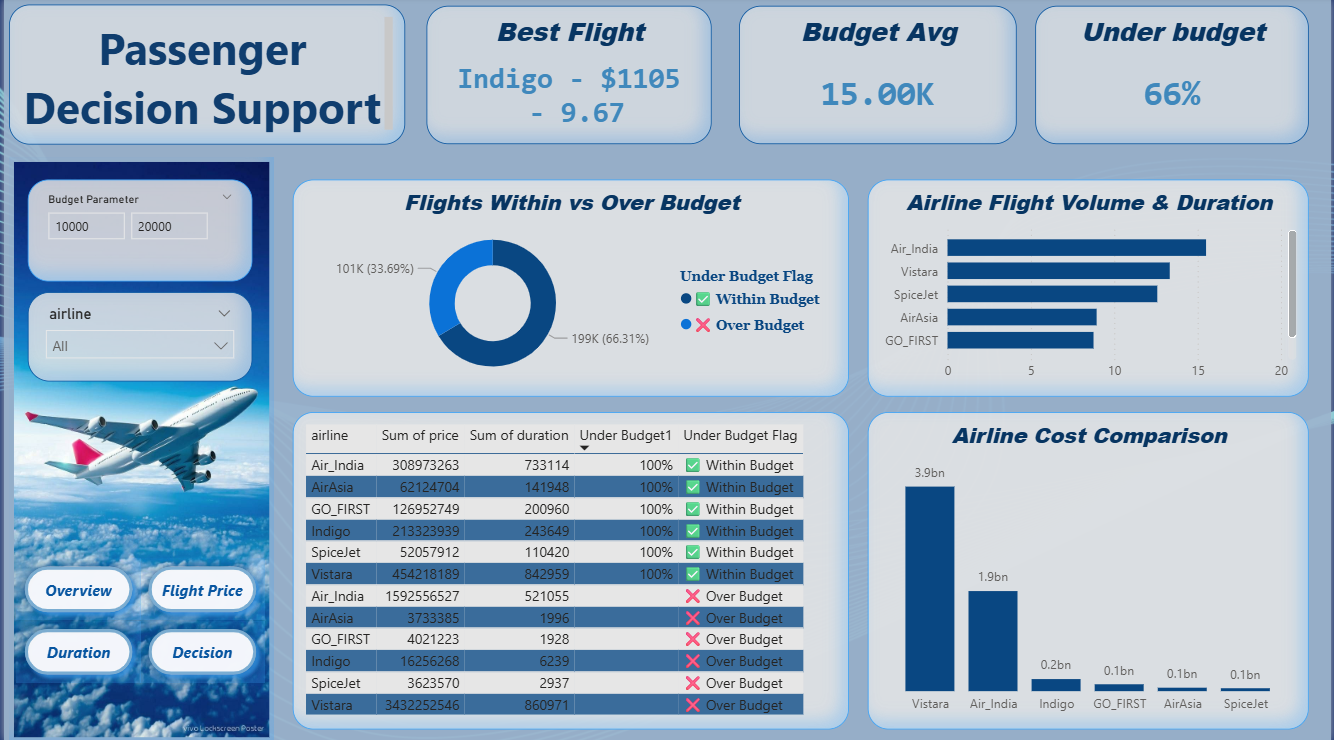

Layout of this report page (visuals, bound fields, positions):
{"tool":"powerbi","page":{"name":"Passenger Decision Support","canvas":[1280,720],"ordinal":3},"visuals":[{"type":"tableEx","fields":{"Values":["airlines_flights_data.airline","Sum(airlines_flights_data.price)","Sum(airlines_flights_data.duration)","Budget Parameter.% Under Budget1","airlines_flights_data.Under Budget Flag"]},"box":[278.7,400.5,536.9,306.4],"z":0},{"type":"card","title":"Budget Avg","fields":{"Values":["Avg(Budget Parameter.Budget Parameter)"]},"box":[709.4,8.4,267.8,133.9],"z":1000},{"type":"card","title":"Under budget","fields":{"Values":["Budget Parameter.% Under Budget1"]},"box":[995.3,8.4,264.2,133.9],"z":2000},{"type":"card","title":"Best Flight","fields":{"Values":["Budget Parameter.Best Flight 3"]},"box":[407.8,8.4,275.1,133.9],"z":3000},{"type":"clusteredBarChart","title":"Airline Flight Volume & Duration","fields":{"Category":["airlines_flights_data.airline"],"Y":["Measures (2).Average Duration"]},"box":[833.7,176.1,425.9,209.9],"z":4000},{"type":"clusteredColumnChart","title":"Airline Cost Comparison","fields":{"Category":["airlines_flights_data.airline"],"Y":["Sum(airlines_flights_data.price)"]},"box":[833.7,400.5,425.9,306.4],"z":5000},{"type":"donutChart","title":"Flights Within vs Over Budget","fields":{"Category":["airlines_flights_data.Under Budget Flag"],"Y":["airlines_flights_data.Flights Count"]},"box":[278.7,176.1,536.9,209.9],"z":6000},{"type":"textbox","box":[4.8,7.2,382.4,135.1],"z":7000},{"type":"image","box":[4.5,154.4,255.9,564.8],"z":8000},{"type":"slicer","fields":{"Values":["airlines_flights_data.airline"]},"box":[23.3,285,216.7,86.7],"z":9000},{"type":"slicer","fields":{"Values":["Budget Parameter.Budget Parameter"]},"box":[23.3,176.7,216.7,98.3],"z":10000},{"type":"actionButton","box":[11.7,541.7,120,60],"z":11000},{"type":"actionButton","box":[131.7,541.7,120,60],"z":12000},{"type":"actionButton","box":[11.7,601.7,120,60],"z":13000},{"type":"actionButton","box":[131.7,601.7,120,60],"z":14000}]}

Visuals, with their boxes in screenshot pixels (x1, y1, x2, y2), scaled from the page's 1280x720 canvas onto the 1334x740 screenshot:
tableEx - airlines_flights_data.airline x Sum(airlines_flights_data.price): 290:412:850:727
"Budget Avg" card: 739:9:1018:146
"Under budget" card: 1037:9:1313:146
"Best Flight" card: 425:9:712:146
"Airline Flight Volume & Duration" clusteredBarChart: 869:181:1313:397
"Airline Cost Comparison" clusteredColumnChart: 869:412:1313:727
"Flights Within vs Over Budget" donutChart: 290:181:850:397
textbox: 5:7:404:146
image: 5:159:271:739
slicer - airlines_flights_data.airline: 24:293:250:382
slicer - Budget Parameter.Budget Parameter: 24:182:250:283
actionButton: 12:557:137:618
actionButton: 137:557:262:618
actionButton: 12:618:137:680
actionButton: 137:618:262:680
